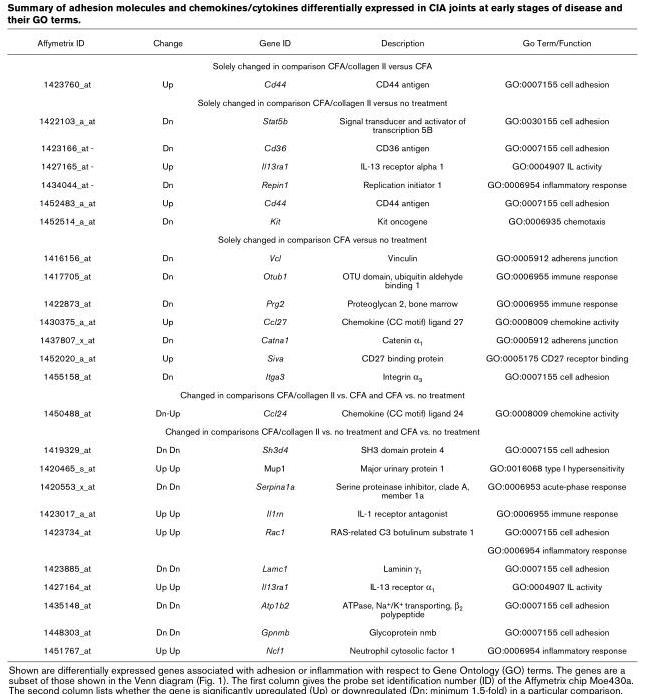table: (36, 37, 627, 655)
table column: (311, 37, 479, 655), (479, 37, 627, 655), (123, 37, 218, 655), (218, 37, 311, 655), (36, 37, 123, 655)
table column header: (36, 37, 627, 53)
table projected row header: (36, 53, 627, 74), (36, 92, 627, 110), (36, 229, 627, 247), (36, 385, 627, 403), (36, 421, 627, 439)
table row: (36, 110, 627, 138), (36, 266, 627, 293), (36, 476, 627, 503), (36, 595, 627, 622), (36, 53, 627, 74), (36, 329, 627, 349), (36, 174, 627, 193), (36, 247, 627, 266), (36, 366, 627, 385), (36, 439, 627, 458), (36, 521, 627, 540), (36, 558, 627, 577), (36, 74, 627, 92), (36, 92, 627, 110), (36, 138, 627, 156), (36, 156, 627, 174), (36, 193, 627, 211), (36, 211, 627, 229), (36, 229, 627, 247), (36, 293, 627, 311), (36, 311, 627, 329), (36, 385, 627, 403), (36, 403, 627, 421), (36, 421, 627, 439), (36, 458, 627, 476), (36, 503, 627, 521), (36, 540, 627, 558), (36, 577, 627, 595), (36, 622, 627, 640), (36, 349, 627, 366), (36, 37, 627, 53), (36, 640, 627, 655)
table spanning cell: (36, 521, 123, 558)
